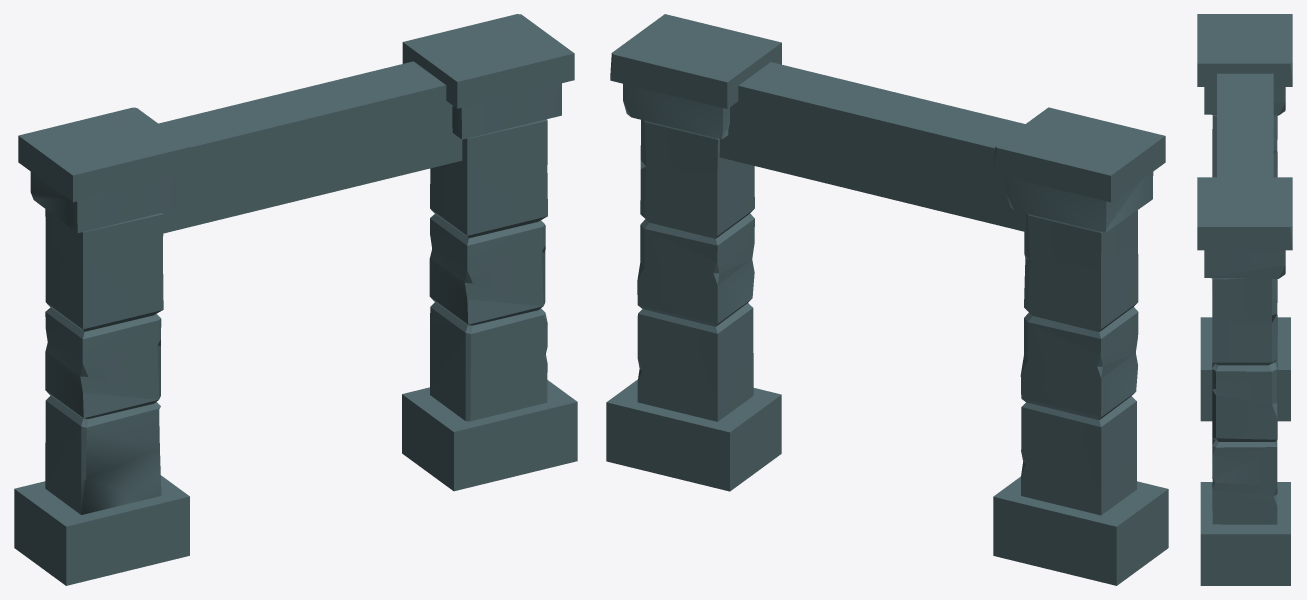
Rendered from stone finish gate.fbx.
3 renders of one model, left to right at view 1: azimuth 30°, elevation 25°; view 2: azimuth 150°, elevation 25°; view 3: azimuth 270°, elevation 25°, orthographic. The views are drawn at different scales.
Visible parts, largest first — view 1: gate in; view 2: gate in; view 3: gate in.
Part boxes in pixels (x1=…): gate in: x1=14, y1=14, x2=577, y2=585; gate in: x1=606, y1=14, x2=1168, y2=585; gate in: x1=1197, y1=14, x2=1292, y2=585.
Size of the model in its own units: 401 by 308 by 74.26.
